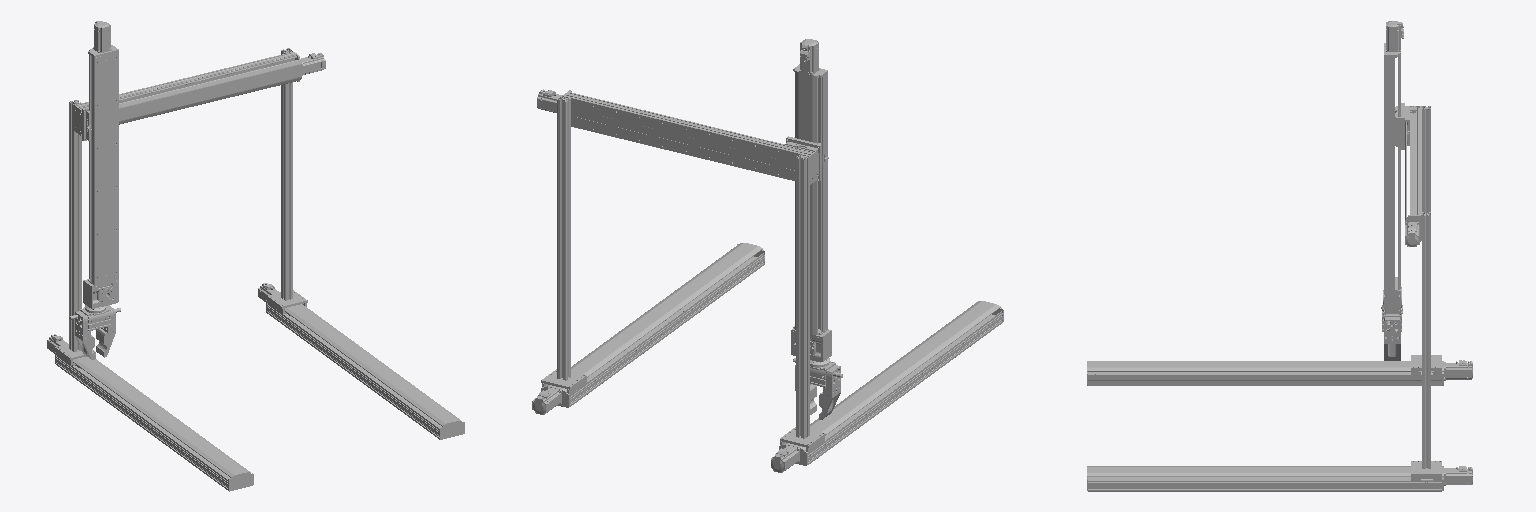
robot.urdf — ROS20v3:
<?xml version="1.0"?>
<!-- This URDF was automatically created by SolidWorks to URDF Exporter! Originally created by [author] ([email redacted]) 
     Commit Version: 1.6.0-4-g7f85cfe  Build Version: 1.6.7995.38578
     For more information, please see http://wiki.ros.org/sw_urdf_exporter -->
<robot
  name="ROS20v3">
  <link name="dummy">
   </link>
  <link
    name="base_link">
    <inertial>
      <origin
        xyz="0.455000000001632 -0.665932861345227 0.0217084063618509"
        rpy="0 0 0" />
      <mass
        value="29.5901599878944" />
      <inertia
        ixx="5.04057162349041"
        ixy="0"
        ixz="0"
        iyy="0.0445719864785144"
        iyz="-0.00106435207155192"
        izz="5.06477591138096" />
    </inertial>
    <visual>
      <origin
        xyz="0 0 0"
        rpy="0 0 0" />
      <geometry>
        <mesh
          filename="package://modelo_robot/meshes/base_link.STL" />
      </geometry>
      <material
        name="">
        <color
          rgba="0.752941176470588 0.752941176470588 0.752941176470588 1" />
      </material>
    </visual>
    <collision>
      <origin
        xyz="0 0 0"
        rpy="0 0 0" />
      <geometry>
        <mesh
          filename="package://modelo_robot/meshes/base_link.STL" />
      </geometry>
    </collision>
  </link>
  <joint name="dummy_joint" type="fixed">
     <parent link="dummy"/>
     <child link="base_link"/>
  </joint>

  <link
    name="link1">
    <inertial>
      <origin
        xyz="0.0328310074480208 -0.197208380652664 0.00563515582521"
        rpy="0 0 0" />
      <mass
        value="17.2198394014864" />
      <inertia
        ixx="0.466929665099688"
        ixy="0"
        ixz="-0.000387681216828385"
        iyy="0.985733411129293"
        iyz="0"
        izz="1.43814049662022" />
    </inertial>
    <visual>
      <origin
        xyz="0 0 0"
        rpy="0 0 0" />
      <geometry>
        <mesh
          filename="package://modelo_robot/meshes/link1.STL" />
      </geometry>
      <material
        name="">
        <color
          rgba="0.752941176470588 0.752941176470588 0.752941176470588 1" />
      </material>
    </visual>
    <collision>
      <origin
        xyz="0 0 0"
        rpy="0 0 0" />
      <geometry>
        <mesh
          filename="package://modelo_robot/meshes/link1.STL" />
      </geometry>
    </collision>
  </link>
  <joint
    name="joint1"
    type="prismatic">
    <origin
      xyz="0.461 -0.0845000000000008 1.11300000000025"
      rpy="1.5707963267949 0 0" />
    <parent
      link="base_link" />
    <child
      link="link1" />
    <axis
      xyz="0 0 1" />
    <limit
      lower="0"
      upper="1.3"
      effort="30"
      velocity="1" />
  </joint>
  <link
    name="link2">
    <inertial>
      <origin
        xyz="-0.000168648677512595 0.000152811950423049 0.0290374834432597"
        rpy="0 0 0" />
      <mass
        value="1.96356464302187" />
      <inertia
        ixx="0.00309072956292193"
        ixy="0"
        ixz="0"
        iyy="0.00309072956292194"
        iyz="0"
        izz="0.00589294832364468" />
    </inertial>
    <visual>
      <origin
        xyz="0 0 0"
        rpy="0 0 0" />
      <geometry>
        <mesh
          filename="package://modelo_robot/meshes/link2.STL" />
      </geometry>
      <material
        name="">
        <color
          rgba="0.752941176470588 0.752941176470588 0.752941176470588 1" />
      </material>
    </visual>
    <collision>
      <origin
        xyz="0 0 0"
        rpy="0 0 0" />
      <geometry>
        <mesh
          filename="package://modelo_robot/meshes/link2.STL" />
      </geometry>
    </collision>
  </link>
  <joint
    name="joint2"
    type="prismatic">
    <origin
      xyz="-0.469293044992521 0.0598088817194615 0.0474625165568512"
      rpy="0 0 0" />
    <parent
      link="link1" />
    <child
      link="link2" />
    <axis
      xyz="1 0 0" />
    <limit
      lower="0"
      upper="0.9"
      effort="30"
      velocity="1" />
  </joint>
  <link
    name="link3">
    <inertial>
      <origin
        xyz="-0.00147588590977027 -0.0208920946717389 -0.0248846124402646"
        rpy="0 0 0" />
      <mass
        value="13.7189191164874" />
      <inertia
        ixx="0.982874255374579"
        ixy="-0.000273883015571155"
        ixz="0"
        iyy="0.0213435211275886"
        iyz="0.000390920298541388"
        izz="0.994381700259906" />
    </inertial>
    <visual>
      <origin
        xyz="0 0 0"
        rpy="0 0 0" />
      <geometry>
        <mesh
          filename="package://modelo_robot/meshes/link3.STL" />
      </geometry>
      <material
        name="">
        <color
          rgba="0.752941176470588 0.752941176470588 0.752941176470588 1" />
      </material>
    </visual>
    <collision>
      <origin
        xyz="0 0 0"
        rpy="0 0 0" />
      <geometry>
        <mesh
          filename="package://modelo_robot/meshes/link3.STL" />
      </geometry>
    </collision>
  </link>
  <joint
    name="joint3"
    type="prismatic">
    <origin
      xyz="-0.000116310683100973 -0.231823849825143 0.107037483443484"
      rpy="0 0 0" />
    <parent
      link="link2" />
    <child
      link="link3" />
    <axis
      xyz="0 -1 0" />
    <limit
      lower="-0.64"
      upper="0"
      effort="30"
      velocity="1" />
  </joint>
  <link
    name="link4">
    <inertial>
      <origin
        xyz="-2.80076216502279E-06 -0.0391009032914158 3.30432791206259E-05"
        rpy="0 0 0" />
      <mass
        value="1.35955184245946" />
      <inertia
        ixx="0.00124020364929674"
        ixy="0"
        ixz="0"
        iyy="0.00208487722822325"
        iyz="0"
        izz="0.00179494418702087" />
    </inertial>
    <visual>
      <origin
        xyz="0 0 0"
        rpy="0 0 0" />
      <geometry>
        <mesh
          filename="package://modelo_robot/meshes/link4.STL" />
      </geometry>
      <material
        name="">
        <color
          rgba="0.752941176470588 0.752941176470588 0.752941176470588 1" />
      </material>
    </visual>
    <collision>
      <origin
        xyz="0 0 0"
        rpy="0 0 0" />
      <geometry>
        <mesh
          filename="package://modelo_robot/meshes/link4.STL" />
      </geometry>
    </collision>
  </link>
  <joint
    name="joint4"
    type="continuous">
    <origin
      xyz="-0.0355906443244183 -0.61298503189444 -0.035499999999997"
      rpy="0 0 0" />
    <parent
      link="link3" />
    <child
      link="link4" />
    <axis
      xyz="0 1 0" />
    <limit
      lower="-3.14"
      upper="3.14"
      effort="100"
      velocity="1" />
  </joint>
  <link
    name="link5">
    <inertial>
      <origin
        xyz="-0.0640090111175028 -0.0262061369398984 0.000323288154533835"
        rpy="0 0 0" />
      <mass
        value="1.13785483458619" />
      <inertia
        ixx="0.0016575944585592"
        ixy="0"
        ixz="0"
        iyy="0.00158305578572202"
        iyz="0"
        izz="0.00226855937540325" />
    </inertial>
    <visual>
      <origin
        xyz="0 0 0"
        rpy="0 0 0" />
      <geometry>
        <mesh
          filename="package://modelo_robot/meshes/link5.STL" />
      </geometry>
      <material
        name="">
        <color
          rgba="0.752941176470588 0.752941176470588 0.752941176470588 1" />
      </material>
    </visual>
    <collision>
      <origin
        xyz="0 0 0"
        rpy="0 0 0" />
      <geometry>
        <mesh
          filename="package://modelo_robot/meshes/link5.STL" />
      </geometry>
    </collision>
  </link>
  <joint
    name="joint5"
    type="prismatic">
    <origin
      xyz="0.02 -0.0775 0"
      rpy="0 0 0" />
    <parent
      link="link4" />
    <child
      link="link5" />
    <axis
      xyz="1 0 0" />
    <limit
      lower="-0.12"
      upper="0"
      effort="20"
      velocity="1" />
  </joint>
  <link
    name="link6">
    <inertial>
      <origin
        xyz="0.0640090112685954 -0.0262061372913353 -0.000323288316061904"
        rpy="0 0 0" />
      <mass
        value="1.13785486355392" />
      <inertia
        ixx="0.00165759446860223"
        ixy="0"
        ixz="0"
        iyy="0.00158305578687289"
        iyz="0"
        izz="0.00226855938114158" />
    </inertial>
    <visual>
      <origin
        xyz="0 0 0"
        rpy="0 0 0" />
      <geometry>
        <mesh
          filename="package://modelo_robot/meshes/link6.STL" />
      </geometry>
      <material
        name="">
        <color
          rgba="0.752941176470588 0.752941176470588 0.752941176470588 1" />
      </material>
    </visual>
    <collision>
      <origin
        xyz="0 0 0"
        rpy="0 0 0" />
      <geometry>
        <mesh
          filename="package://modelo_robot/meshes/link6.STL" />
      </geometry>
    </collision>
  </link>
  <joint
    name="joint6"
    type="prismatic">
    <origin
      xyz="-0.02 -0.0775 0"
      rpy="0 0 0" />
    <parent
      link="link4" />
    <child
      link="link6" />
    <axis
      xyz="-1 0 0" />
    <limit
      lower="-0.12"
      upper="0"
      effort="20"
      velocity="1" />
  </joint>
</robot>

--- Facts derived from the render (not from the file) ---
Views: 3 orthographic renders of the robot side by side, from view 1: azimuth 30°, elevation 25°; view 2: azimuth 150°, elevation 25°; view 3: azimuth 270°, elevation 25°.
Model ROS20v3 with 8 links and 7 joints (1 continuous, 5 prismatic, 1 fixed), rooted at dummy, posed all joints at 0.
Links seen in each view (by area): view 1: base_link, link1, link3, link5, link6; view 2: link1, base_link, link3, link5; view 3: base_link, link1, link3, link6, link2.
Boxes of the visible links, <box> form: base_link: <box>47,283,464,491</box>; link1: <box>55,48,325,368</box>; link3: <box>83,21,118,312</box>; link5: <box>75,308,120,359</box>; link6: <box>69,305,115,357</box>; link1: <box>537,89,825,452</box>; base_link: <box>532,243,1003,472</box>; link3: <box>791,39,831,366</box>; link5: <box>793,358,840,419</box>; base_link: <box>1087,360,1472,491</box>; link1: <box>1405,106,1441,486</box>; link3: <box>1381,21,1403,313</box>; link6: <box>1384,317,1400,360</box>; link2: <box>1395,103,1416,149</box>.
Bounding box of the posed robot: 1.27 × 1.59 × 1.64 m (x, y, z).
7 mesh visuals loaded from 7 distinct referenced files (7 binary STL).